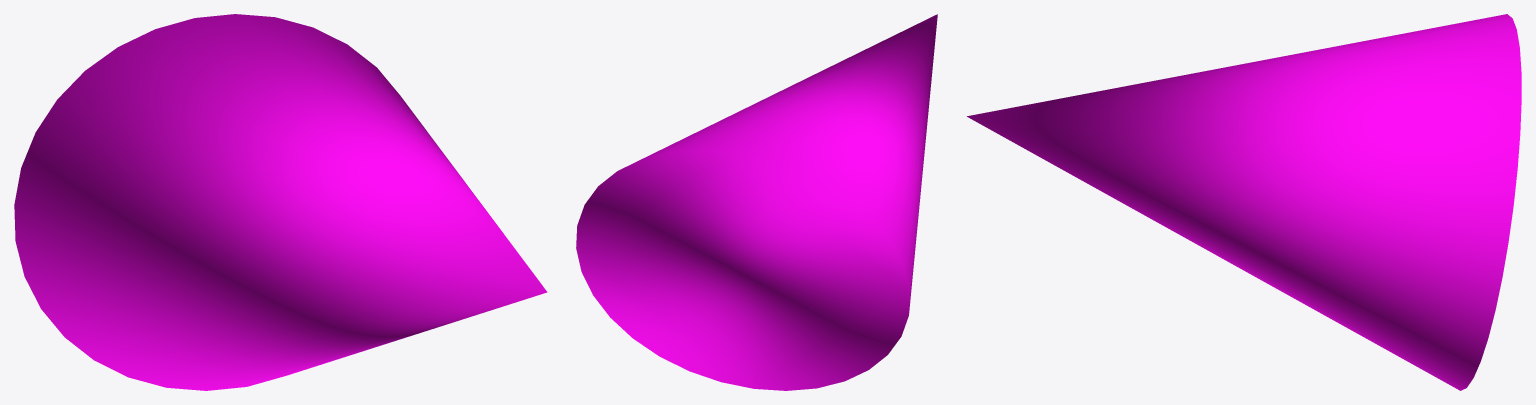
File: zone3-rhino-purple.gltf
The picture shows the model from 3 angles, left to right: view 1: azimuth 30°, elevation 25°; view 2: azimuth 150°, elevation 25°; view 3: azimuth 270°, elevation 25°; orthographic projection. The views are drawn at different scales.
Parts seen in each view (by area): view 1: Corne; view 2: Corne; view 3: Corne.
Part boxes in pixels (box(x1,y1,x2,y2)): Corne: box(14, 14, 547, 390); Corne: box(576, 14, 937, 390); Corne: box(967, 14, 1521, 390).
Bounding box in the file's own units: 0.7107 × 0.5485 × 0.9062.
